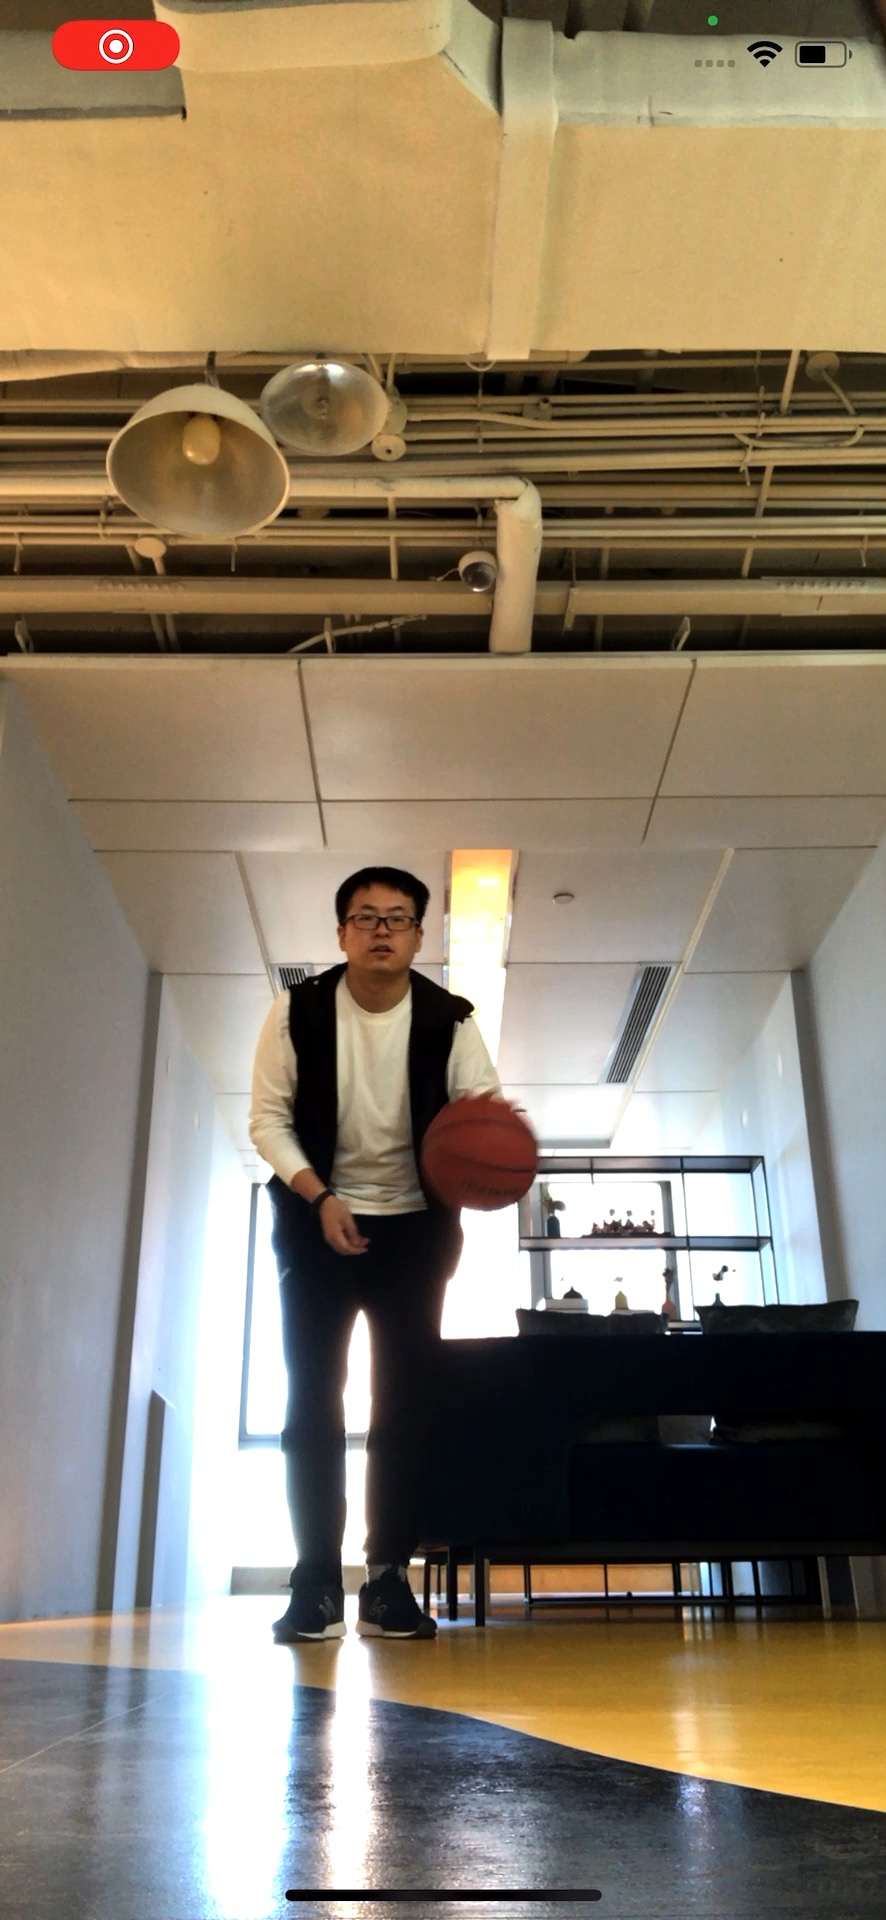ball: (423, 1096, 543, 1212)
